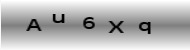6: (82, 16, 95, 29)
A: (25, 18, 43, 32)
X: (108, 20, 125, 34)
q: (137, 20, 150, 35)
u: (50, 13, 66, 24)
